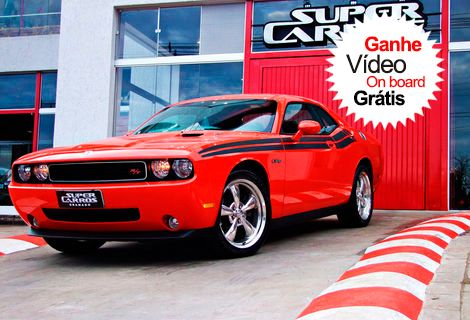Carro: (8, 89, 385, 256)
